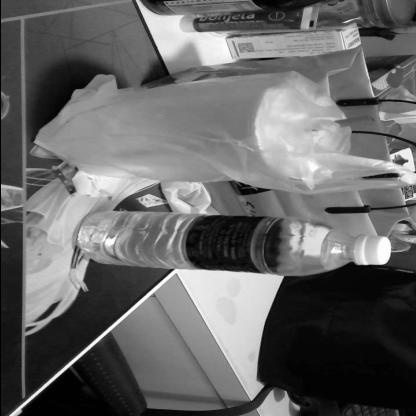plastic_bottles: (75, 210, 391, 276)
